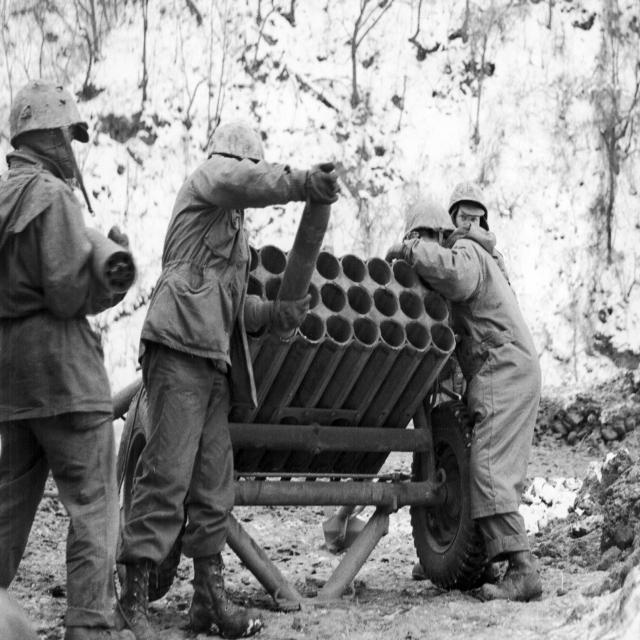bazooka: (227, 130, 388, 368)
